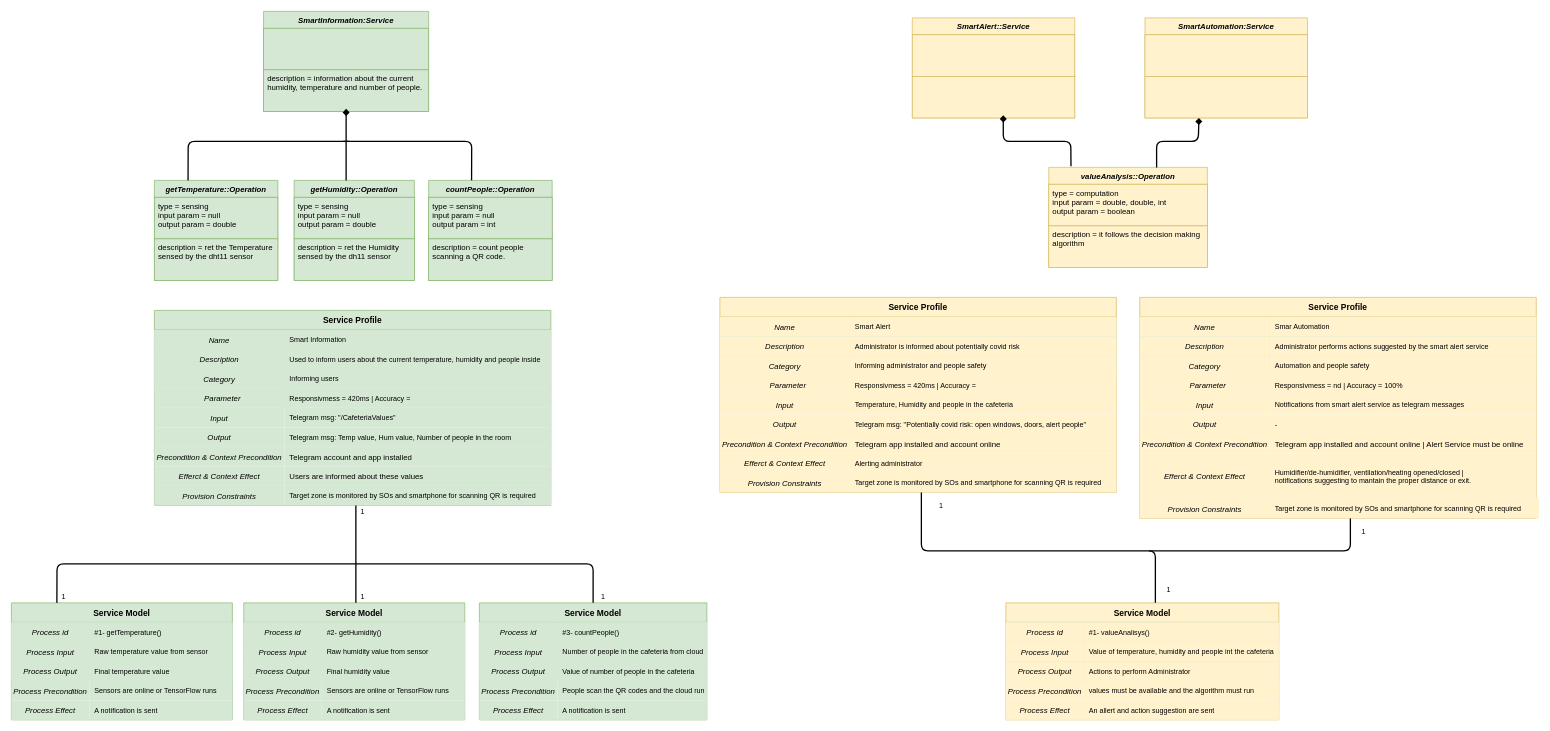
Image size: 1550x731. Some labels were removed from this diagram. The shapes that lost their labels are listed below. From the top down, each one's centre as x and y in pixels, then its label:
(x=346, y=49): type = sensing/actuating input param = string output param = double, double, int
(x=993, y=55): type = actuation input param = boolean output param = string
(x=1225, y=55): type = actuation input param = int output param = string
(x=993, y=97): description = alerting in real time about Covid risks in the room
(x=1225, y=97): description = automation service for opening/ closing windows, fans, ports.
